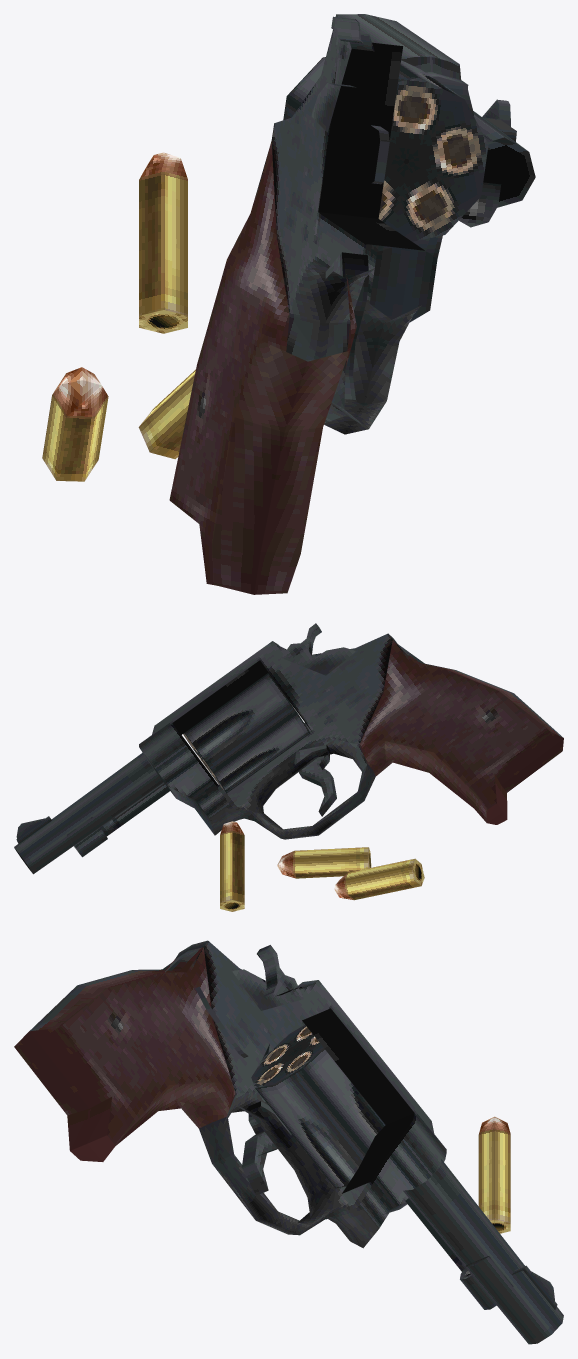
Rendered from ps2_save-icons_specialforces.glb.
The picture shows the model from 3 angles, top to bottom: view 1: azimuth 30°, elevation 25°; view 2: azimuth 150°, elevation 25°; view 3: azimuth 270°, elevation 25°; orthographic projection. The views are drawn at different scales.
Parts seen in each view (by area): view 1: icon1.ico; view 2: icon1.ico; view 3: icon1.ico.
Part boxes in pixels (x1,y1,x2,y2): icon1.ico: (42, 14, 535, 594); icon1.ico: (14, 623, 563, 911); icon1.ico: (14, 940, 563, 1344).
Bounding box in the file's own units: 4.74 × 2.7 × 4.75.
Materials: 1 (1 with a texture image).
